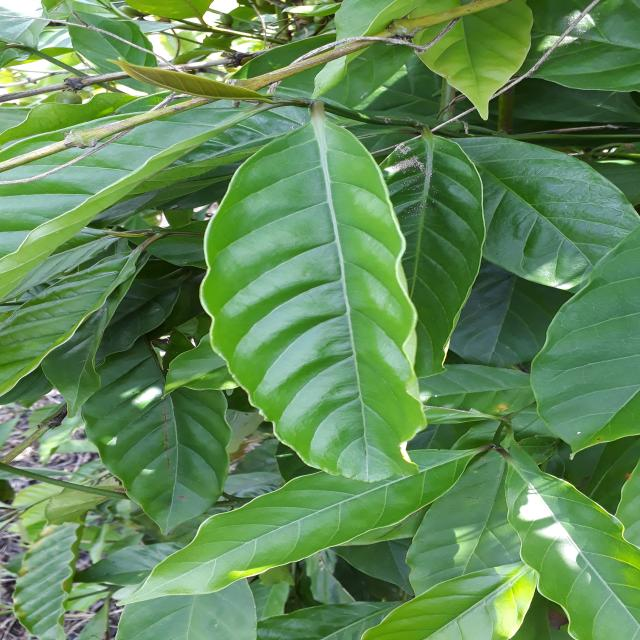Sanas: (199, 116, 426, 483)
